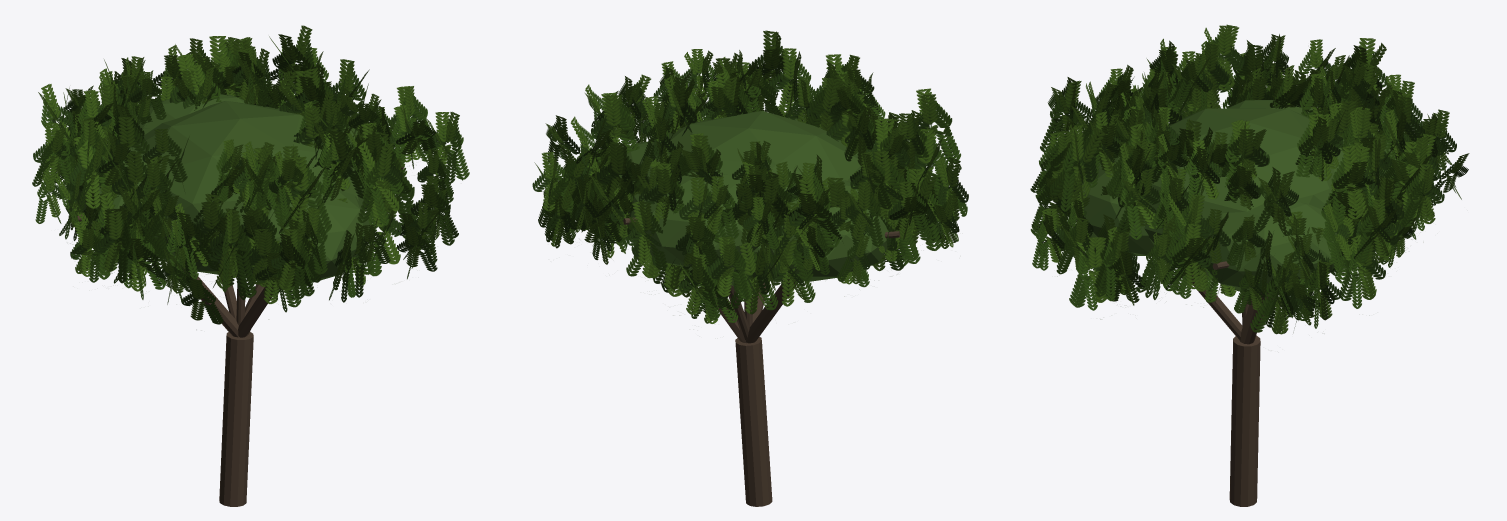
File: tree.glb
The picture shows the model from 3 angles, left to right: view 1: azimuth 30°, elevation 25°; view 2: azimuth 150°, elevation 25°; view 3: azimuth 270°, elevation 25°; orthographic projection. The views are drawn at different scales.
Visible parts, largest first — view 1: tree; view 2: tree; view 3: tree.
Part boxes in pixels (x1,y1,x2,y2): tree: (32, 25, 469, 506); tree: (532, 30, 968, 506); tree: (1030, 24, 1469, 506).
Bounding box in the file's own units: 7.09 × 6.62 × 6.84.
3 materials, 1 textured.
